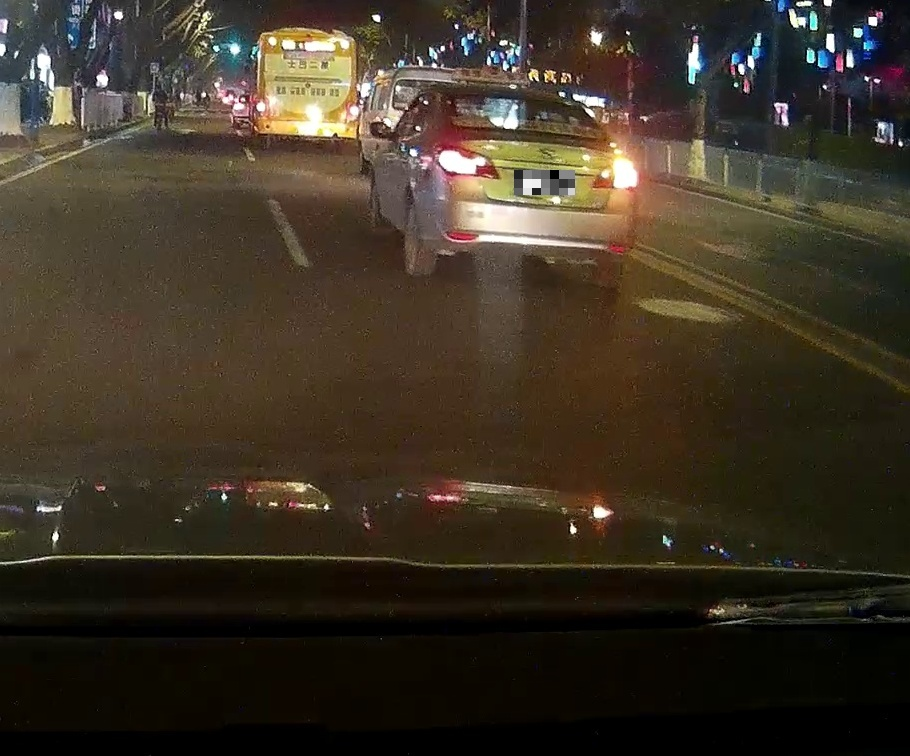L_light: (433, 145, 499, 180), (256, 102, 266, 113)
R_light: (592, 161, 639, 191), (349, 105, 359, 117)
T_light: (519, 98, 547, 103), (302, 40, 317, 44)
night-no: (255, 31, 360, 156)
night-right: (433, 85, 640, 290)
plate_1: (514, 170, 575, 195)
